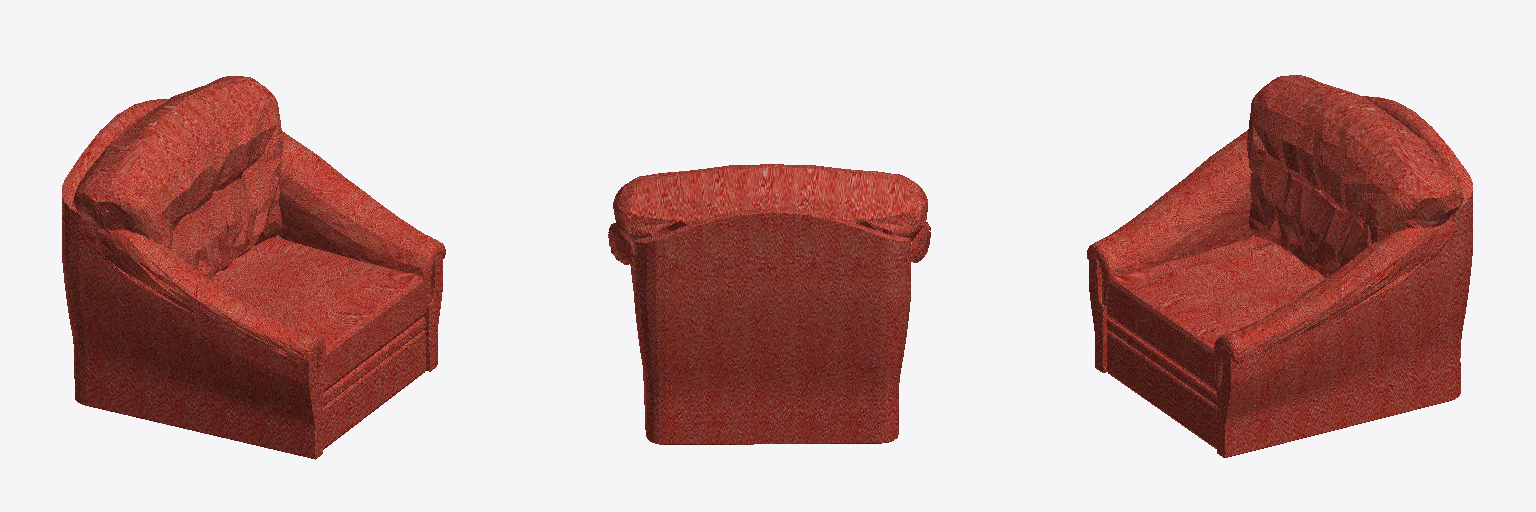
3 views of the same model, side by side, from view 1: azimuth 30°, elevation 25°; view 2: azimuth 150°, elevation 25°; view 3: azimuth 270°, elevation 25° (orthographic).
Visible parts, largest first — view 1: Rectangle1, ChamferBo1, ChamferBo2, ChamferBo3_ChamferBo4, ChamferBo3, ChamferBox, ChamferBo0, Line03, Line04, Rectangle0; view 2: Rectangle0, Rectangle1, ChamferBo1, ChamferBo3_ChamferBo4, ChamferBo3; view 3: Rectangle0, ChamferBo1, ChamferBo2, ChamferBo3, ChamferBo3_ChamferBo4, ChamferBox, ChamferBo0, Line04, Line03, Rectangle1.
Part boxes in pixels (bbox=[...]): Rectangle1: bbox=[62, 115, 313, 458]; ChamferBo1: bbox=[73, 76, 282, 278]; ChamferBo2: bbox=[211, 237, 426, 392]; ChamferBo3_ChamferBo4: bbox=[278, 131, 445, 304]; ChamferBo3: bbox=[81, 225, 326, 386]; ChamferBox: bbox=[323, 330, 425, 449]; ChamferBo0: bbox=[323, 317, 425, 406]; Line03: bbox=[428, 253, 442, 371]; Line04: bbox=[308, 350, 322, 459]; Rectangle0: bbox=[117, 99, 433, 370]; Rectangle0: bbox=[630, 208, 772, 444]; Rectangle1: bbox=[773, 208, 910, 443]; ChamferBo1: bbox=[613, 164, 927, 245]; ChamferBo3_ChamferBo4: bbox=[608, 223, 658, 264]; ChamferBo3: bbox=[882, 222, 930, 262]; Rectangle0: bbox=[1227, 111, 1472, 457]; ChamferBo1: bbox=[1247, 75, 1463, 277]; ChamferBo2: bbox=[1107, 237, 1325, 392]; ChamferBo3: bbox=[1087, 130, 1252, 306]; ChamferBo3_ChamferBo4: bbox=[1214, 221, 1455, 385]; ChamferBox: bbox=[1107, 331, 1216, 448]; ChamferBo0: bbox=[1107, 318, 1216, 405]; Line04: bbox=[1089, 255, 1104, 372]; Line03: bbox=[1217, 349, 1232, 457]; Rectangle1: bbox=[1099, 96, 1412, 372].
Size of the model in its own units: 12.66 by 9.28 by 12.66.
Materials: 1 (1 with a texture image).